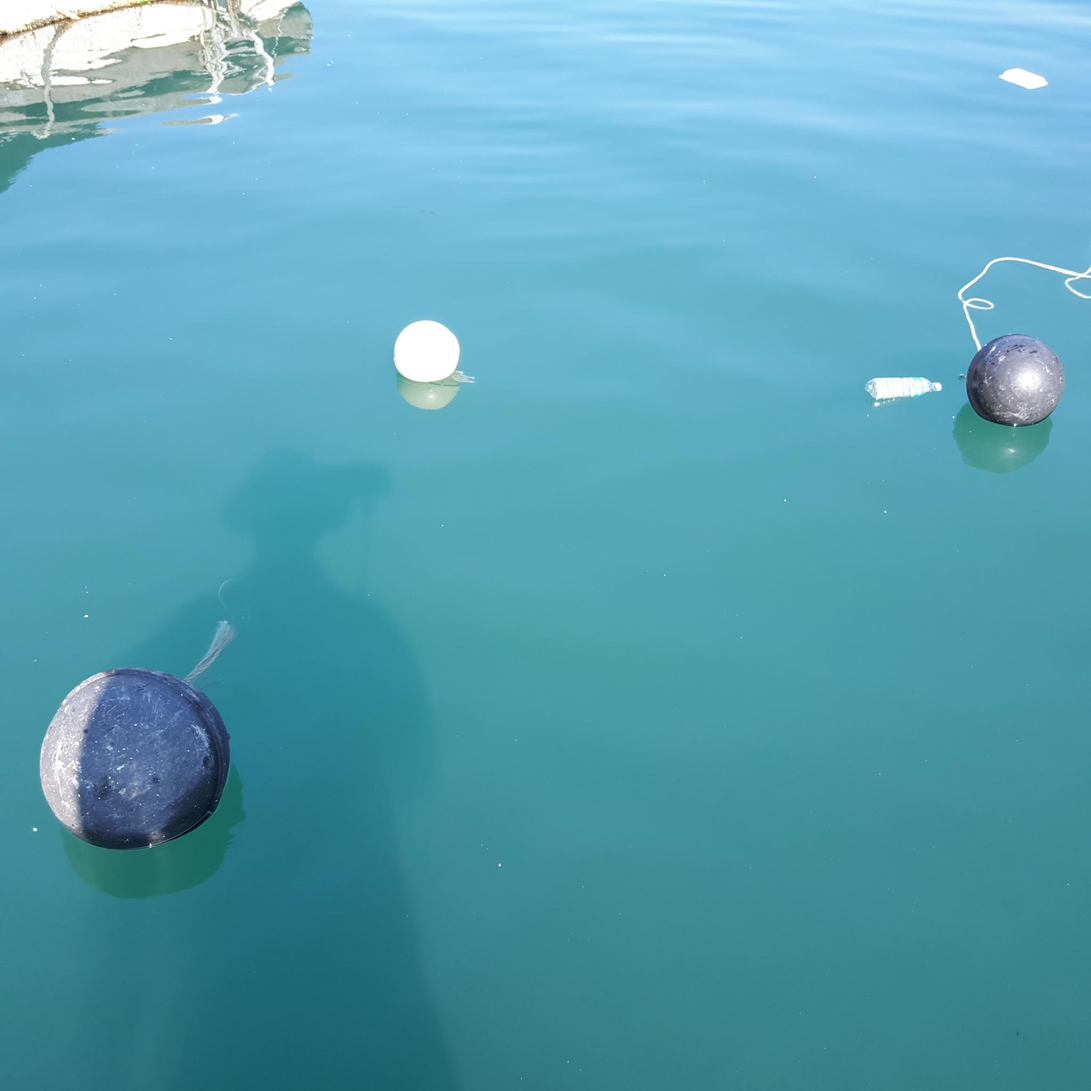sampah_terapung: (40, 668, 232, 852), (958, 257, 1091, 353), (966, 334, 1065, 428), (394, 321, 460, 383), (185, 621, 236, 684), (865, 378, 942, 400), (999, 68, 1048, 91), (449, 371, 475, 383)
